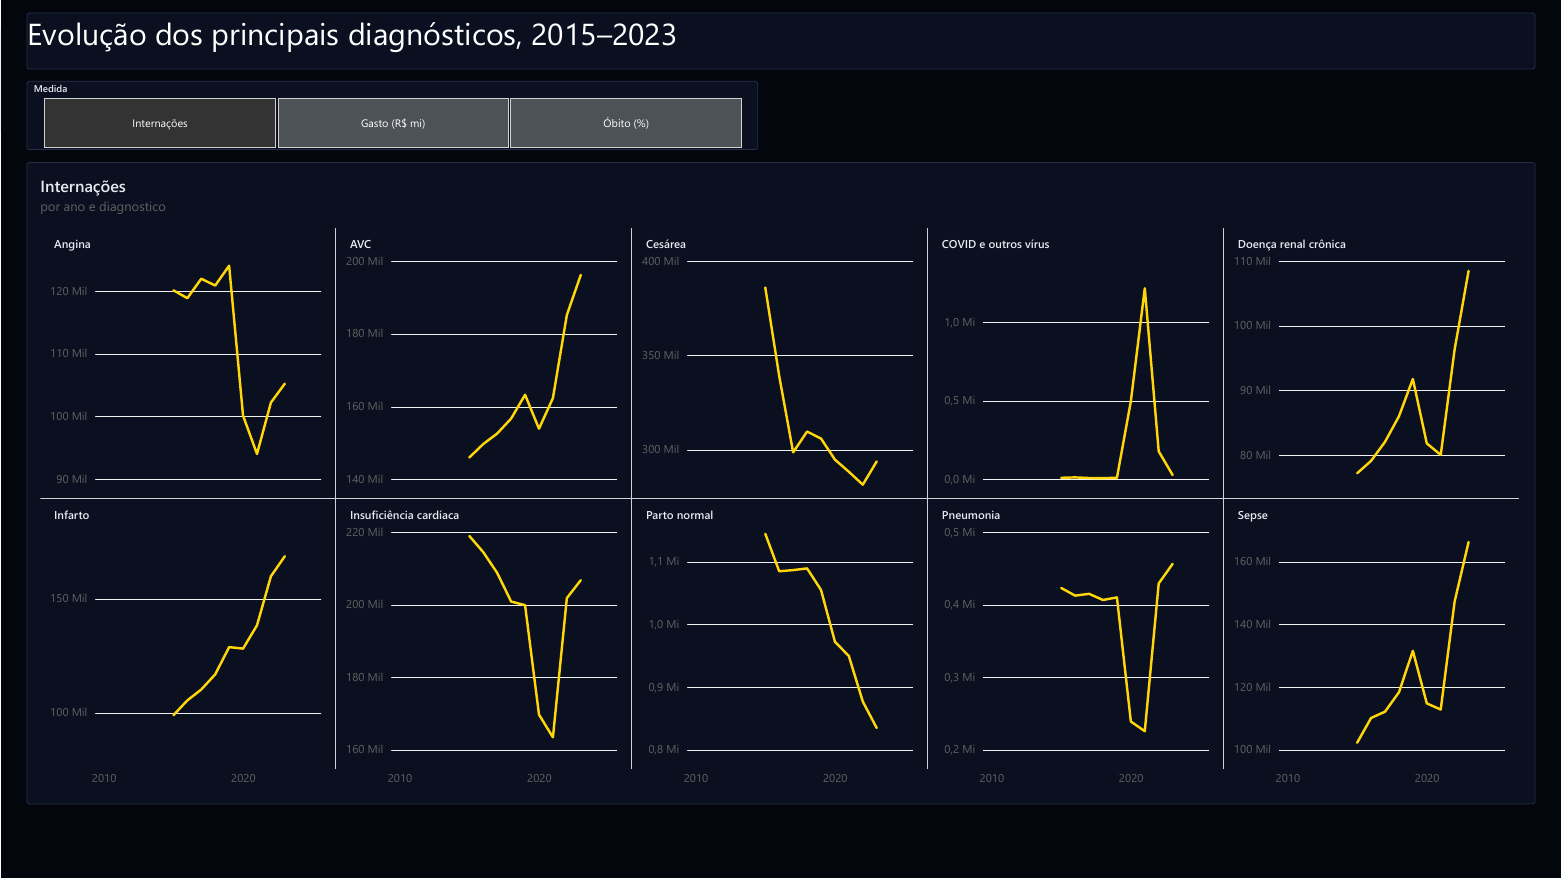

The page's visual inventory and layout, read from the dashboard file:
{"tool":"powerbi","page":{"name":"Evolução","canvas":[1920,1080],"ordinal":2},"visuals":[{"type":"slicer","fields":{"Values":["Medida.Medida"]},"box":[32,100,900,85],"z":0},{"type":"lineChart","fields":{"Category":["evolucao_diagnosticos.ano"],"Rows":["evolucao_diagnosticos.diagnostico"],"Y":["visao_anual.Internações (evolução)"]},"box":[32,200,1856,790],"z":1},{"type":"textbox","box":[32,16,1856,70],"z":2}]}

Visuals, with their boxes in screenshot pixels (x1, y1, x2, y2), scaled from the page's 1920x1080 canvas onto the 1561x878 screenshot:
slicer - Medida.Medida: [26, 81, 758, 150]
lineChart - evolucao_diagnosticos.ano x evolucao_diagnosticos.diagnostico: [26, 163, 1535, 805]
textbox: [26, 13, 1535, 70]
